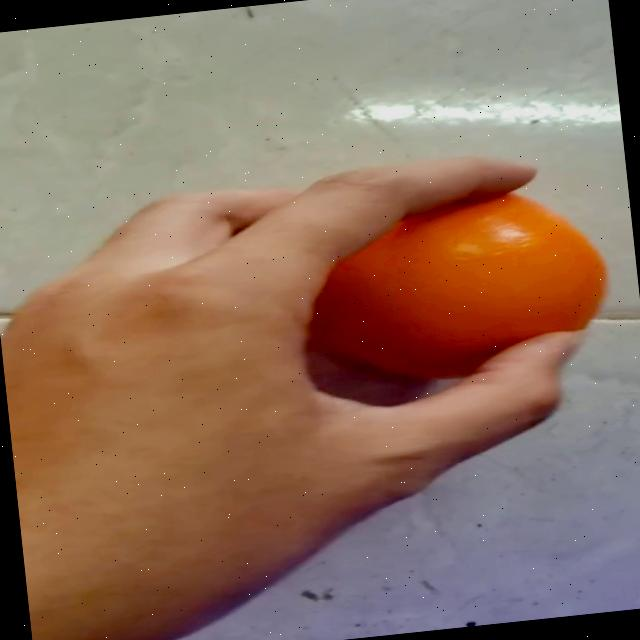orange: (249, 109, 640, 434)
